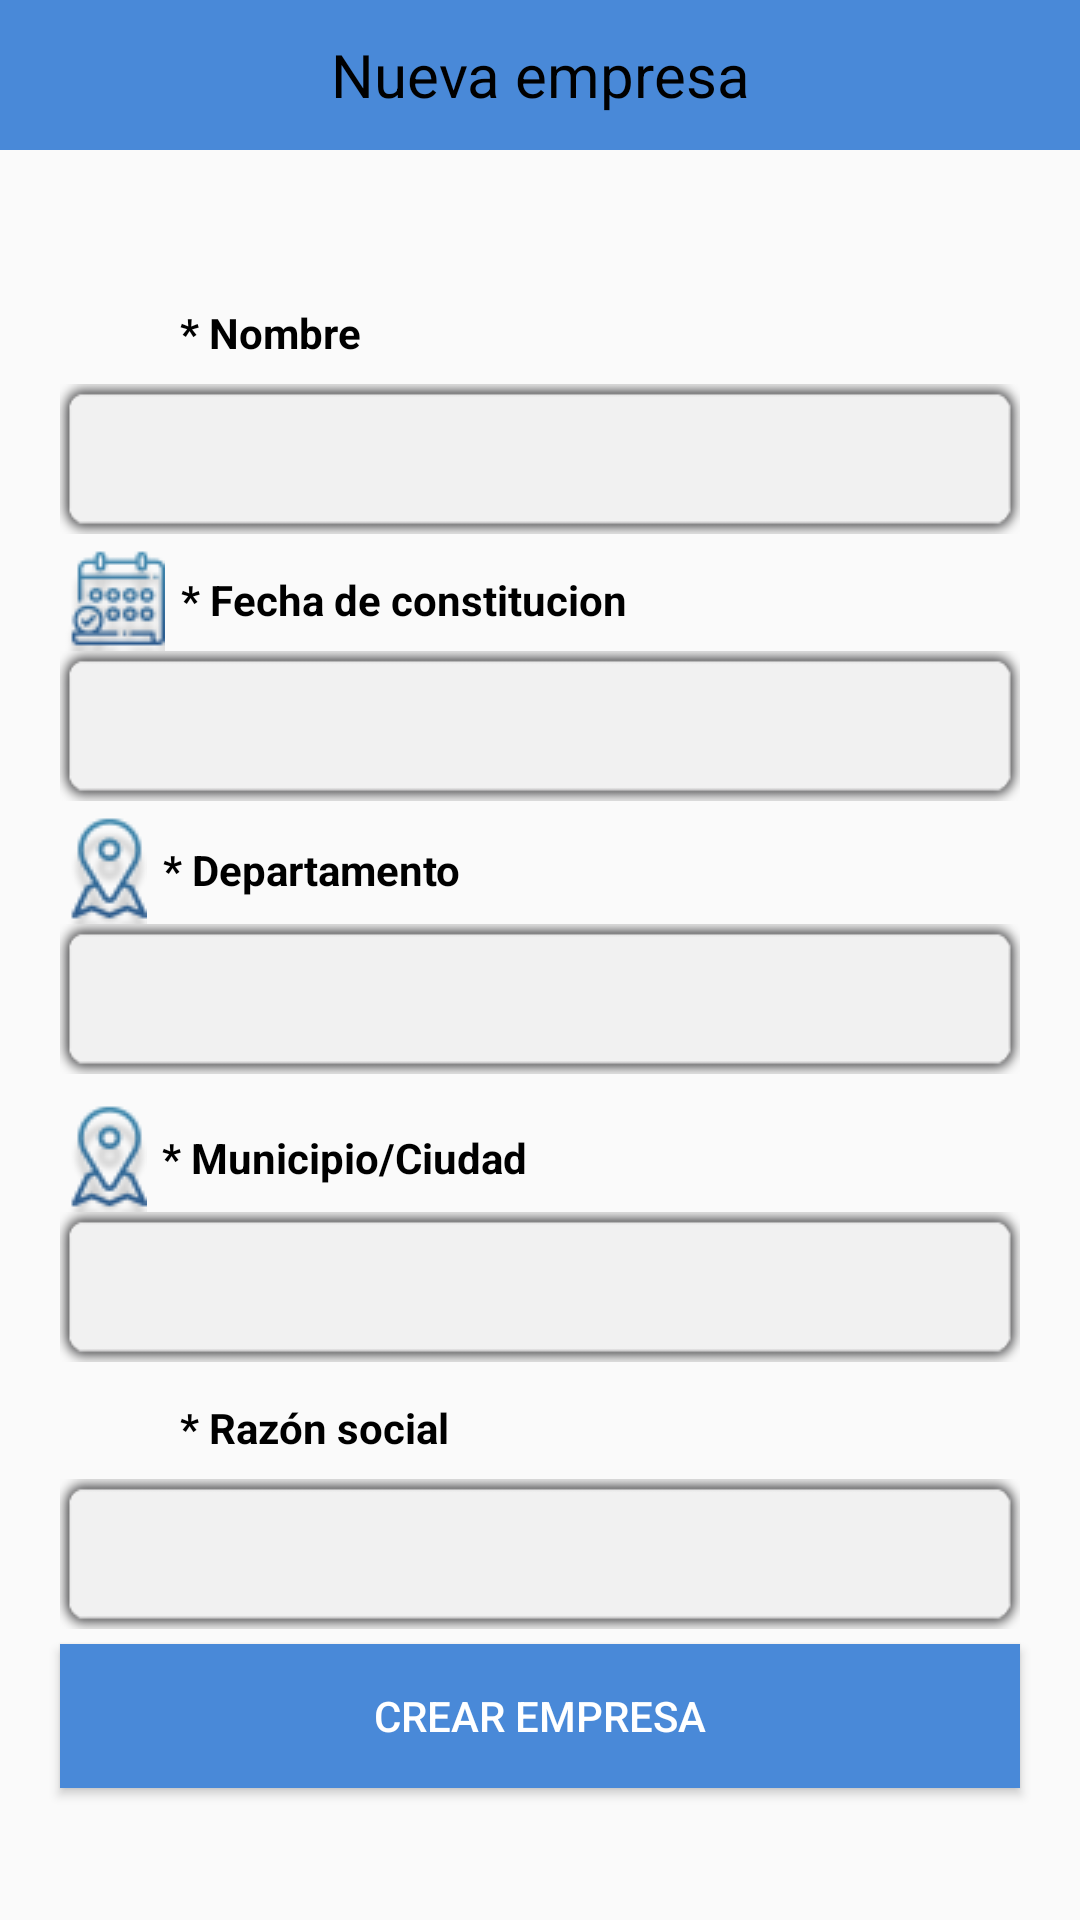

Icons on this 1080px x 1920px Android screen, each with the point to tap as [x,y]:
appointment: [118,601]
